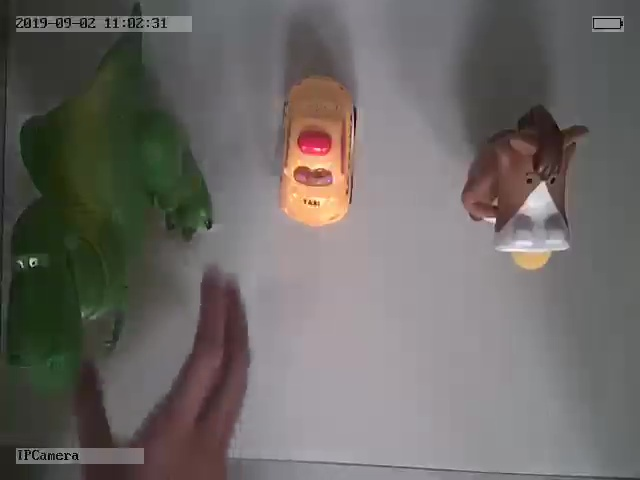car: (277, 72, 359, 230)
horse: (463, 103, 592, 276)
rex: (5, 35, 216, 392)
